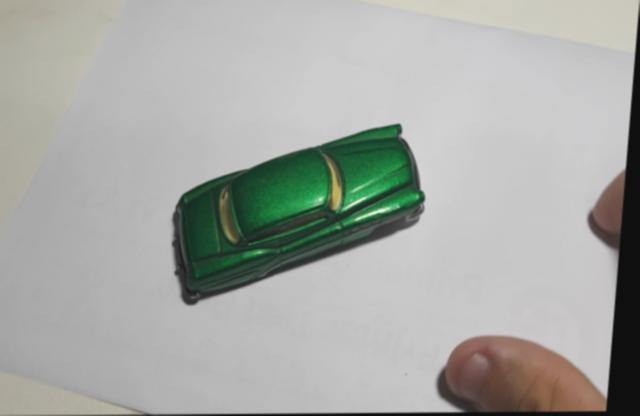06_MASERATI: (175, 126, 429, 307)
